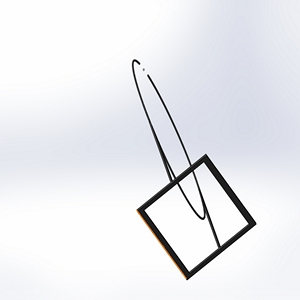circle: (123, 58, 256, 277)
